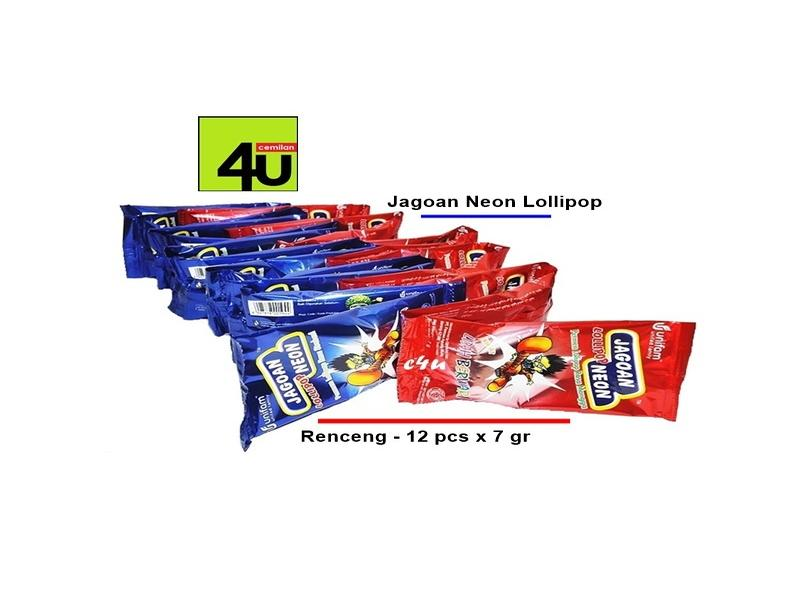jagoan_neon: (230, 284, 457, 451), (398, 312, 696, 421)
